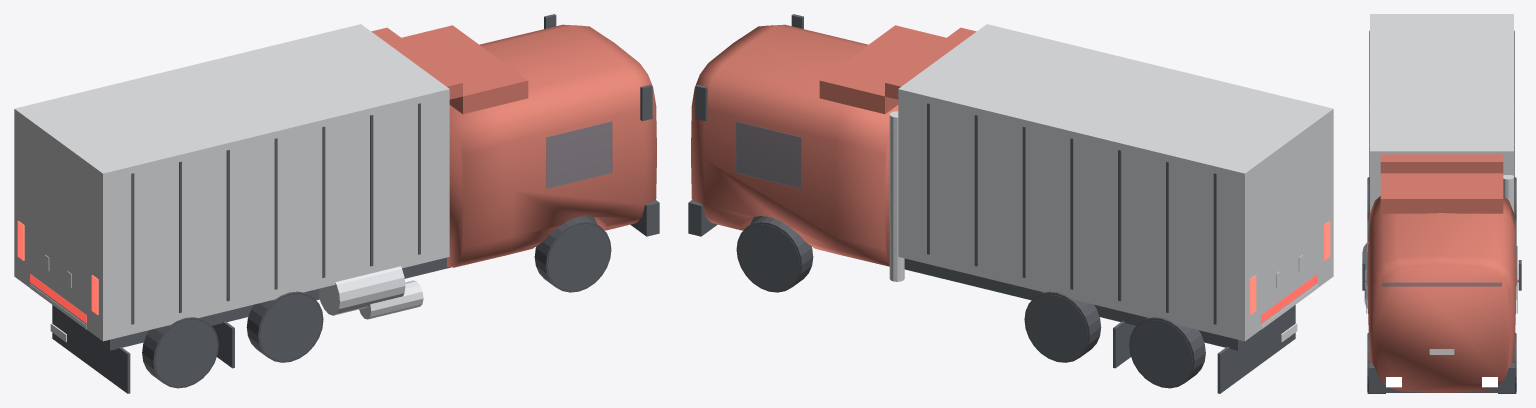
File: truck.glb
3 views of the same model, side by side, from view 1: azimuth 30°, elevation 25°; view 2: azimuth 150°, elevation 25°; view 3: azimuth 270°, elevation 25° (orthographic). The views are drawn at different scales.
Parts seen in each view (by area): view 1: VehicleTruck; view 2: VehicleTruck; view 3: VehicleTruck.
Part boxes in pixels (x1,y1,x2,y2): VehicleTruck: (14,14,659,393); VehicleTruck: (688,14,1333,393); VehicleTruck: (1362,14,1521,393).
Bounding box in the file's own units: 0.8526 × 0.34 × 0.26.
